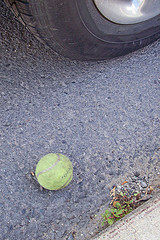tennis ball: (33, 151, 75, 191)
